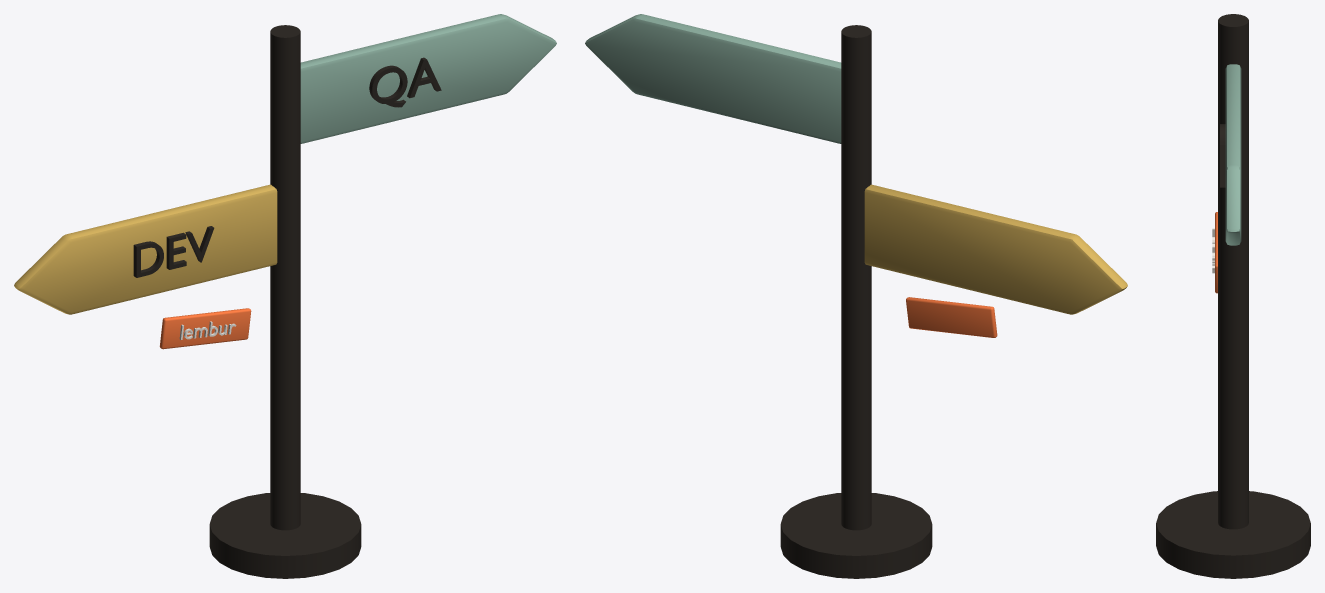
The model's file is rambu.glb.
The picture shows the model from 3 angles, left to right: view 1: azimuth 30°, elevation 25°; view 2: azimuth 150°, elevation 25°; view 3: azimuth 270°, elevation 25°; orthographic projection. The views are drawn at different scales.
Parts seen in each view (by area): view 1: rambu; view 2: rambu; view 3: rambu.
Part boxes in pixels (<box>): rambu: <box>14,14,556,578</box>; rambu: <box>585,14,1127,578</box>; rambu: <box>1156,14,1310,578</box>.
Bounding box in the file's own units: 1 × 0.9133 × 0.2436.
